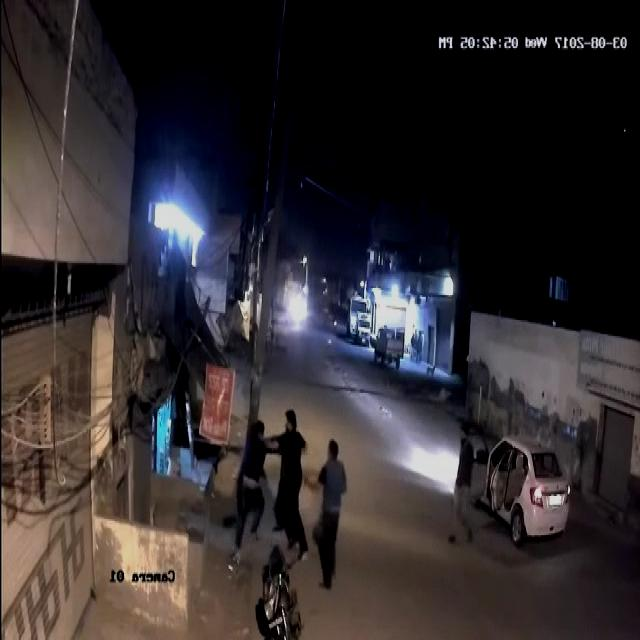fight: (228, 382, 317, 555)
